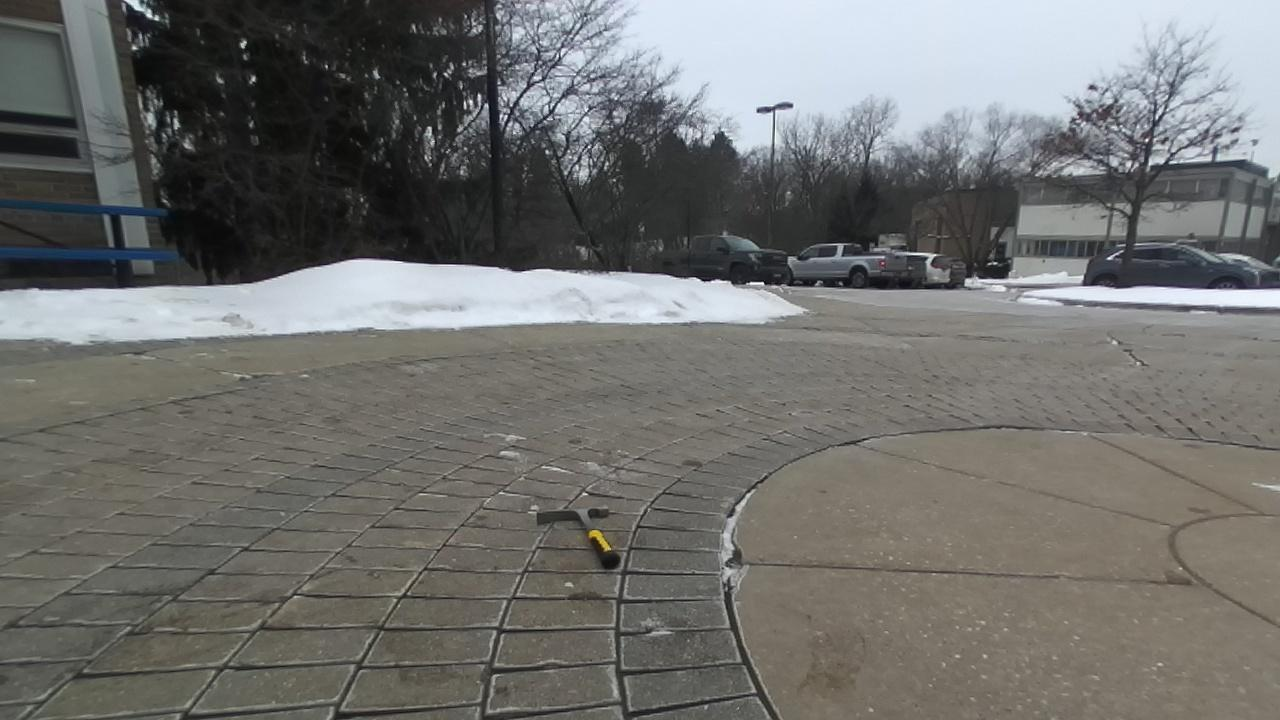pick: (538, 508, 619, 569)
